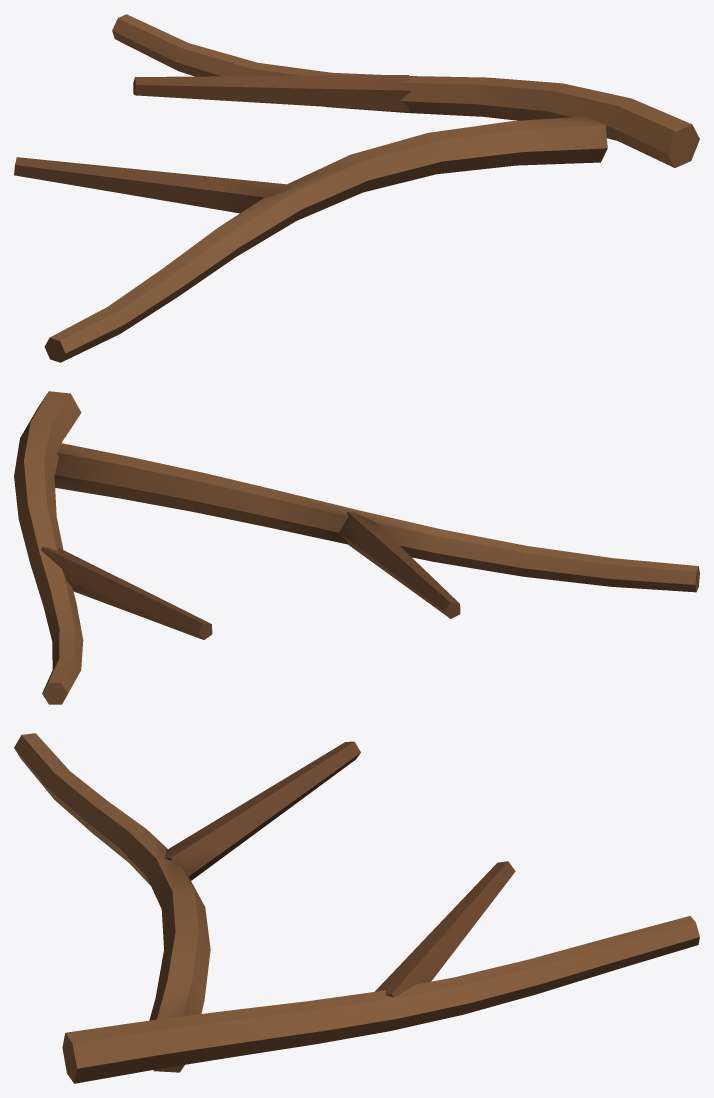
The model's file is glade_gc_twigs_a.glb.
3 views of the same model, one above another, from view 1: azimuth 30°, elevation 25°; view 2: azimuth 150°, elevation 25°; view 3: azimuth 270°, elevation 25° (orthographic). The views are drawn at different scales.
Visible parts, largest first — view 1: glade_gc_twigs_a; view 2: glade_gc_twigs_a; view 3: glade_gc_twigs_a.
Part boxes in pixels (x1,y1,x2,y2): glade_gc_twigs_a: [14, 14, 699, 362]; glade_gc_twigs_a: [14, 391, 699, 704]; glade_gc_twigs_a: [14, 733, 699, 1083].
Size of the model in its own units: 3.94 by 0.3999 by 3.17.
